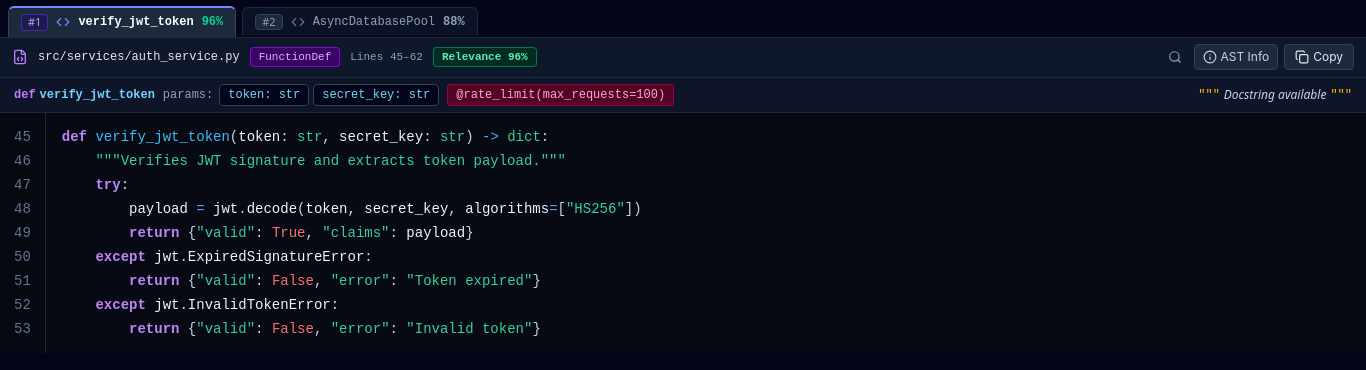
Test: CodeViewerPane & Syntax Highlighting Suite › copies code to clipboard when copy button is clicked
Click the button with test id "copy-code-btn".
click(1319, 57)  # box [1284,44,1354,70]
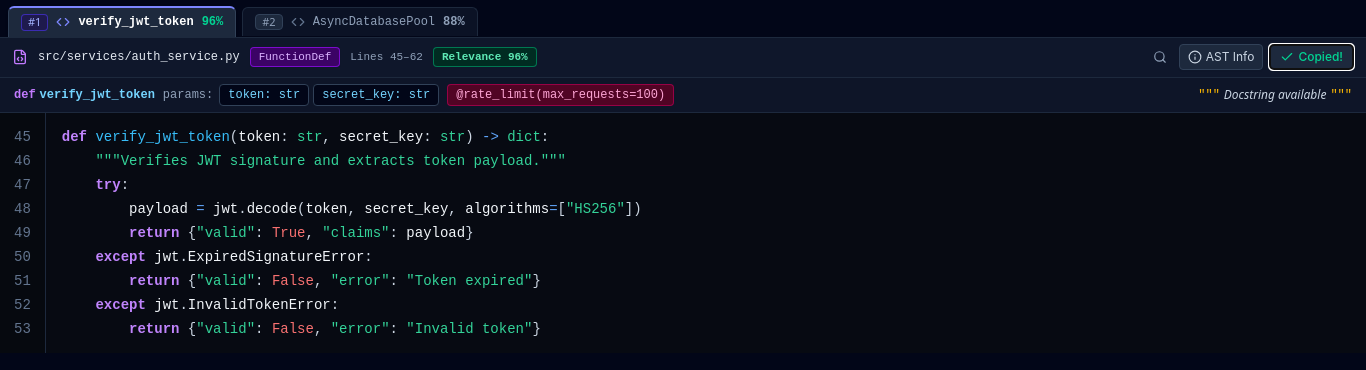
Expected: the text "Copied!" is shown, [1298,49,1343,65]
